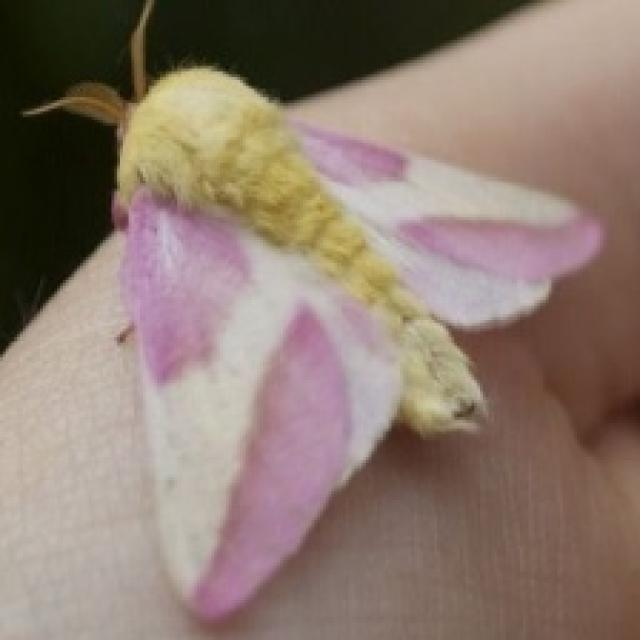butterfly: (17, 0, 606, 623)
